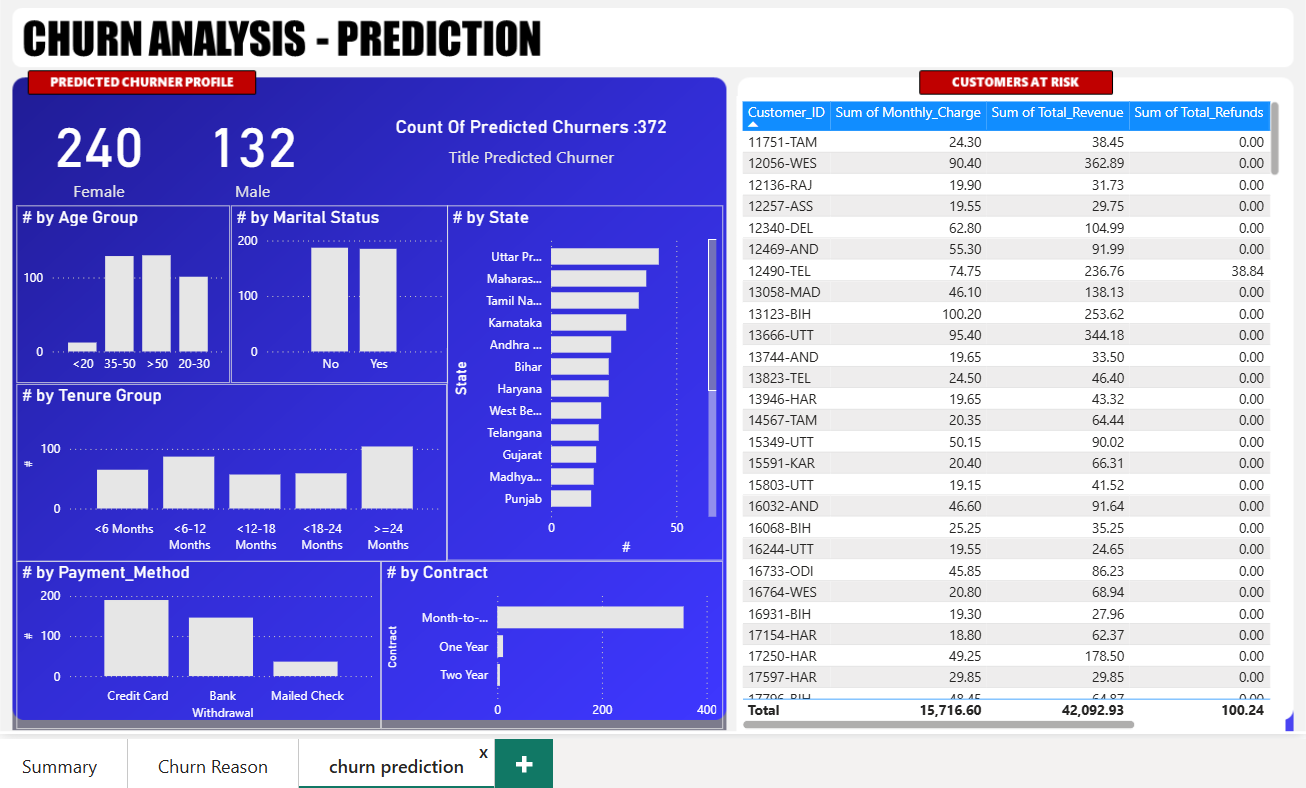

The dashboard page shown, as its layout file describes it:
{"tool":"powerbi","page":{"name":"churn prediction","canvas":[1280,720],"ordinal":2},"visuals":[{"type":"tableEx","fields":{"Values":["Predicted_Churn.Customer_ID","Sum(Predicted_Churn.Monthly_Charge)","Sum(Predicted_Churn.Total_Revenue)","Sum(Predicted_Churn.Total_Refunds)","Sum(Predicted_Churn.Number_of_Referrals)"]},"box":[722.2,94.4,537,625.9],"z":0},{"type":"card","fields":{"Values":["tbl_Measures.Title Predicted Churner"]},"box":[346.3,81.5,350,107.4],"z":1000},{"type":"card","fields":{"Values":["tbl_Measures.Count Pridected Churner"]},"box":[16.7,94.4,161.1,107.4],"z":2000},{"type":"card","fields":{"Values":["tbl_Measures.Count Pridected Churner"]},"box":[177.8,94.4,138.9,107.4],"z":3000},{"type":"clusteredColumnChart","fields":{"Category":["mapping_AgeGrp.Age Group"],"Y":["CountNonNull(Predicted_Churn.Customer_ID)"]},"box":[16.7,201.9,209.3,174.1],"z":4000},{"type":"clusteredColumnChart","fields":{"Category":["Predicted_Churn.Married"],"Y":["CountNonNull(Predicted_Churn.Customer_ID)"]},"box":[225.9,201.9,213,174.1],"z":5000},{"type":"clusteredColumnChart","fields":{"Category":["mapping_TenureGrp.Tenure Group"],"Y":["CountNonNull(Predicted_Churn.Customer_ID)"]},"box":[16.7,375.9,422.2,174.1],"z":6000},{"type":"clusteredBarChart","fields":{"Y":["CountNonNull(Predicted_Churn.Customer_ID)"],"Category":["Predicted_Churn.Contract","Predicted_Churn.Payment_Method"]},"box":[374.1,550,335.2,164.8],"z":7000},{"type":"clusteredBarChart","fields":{"Y":["CountNonNull(Predicted_Churn.Customer_ID)"],"Category":["Predicted_Churn.State","Predicted_Churn.Contract","Predicted_Churn.Payment_Method"]},"box":[438.9,201.9,270.4,348.1],"z":8000},{"type":"clusteredColumnChart","fields":{"Category":["Predicted_Churn.Payment_Method"],"Y":["CountNonNull(Predicted_Churn.Customer_ID)"]},"box":[16.7,550,357.4,164.8],"z":9000}]}

Visuals, with their boxes on the page's 1280x720 design canvas (x1, y1, x2, y2). These are canvas units, not pixel positions in the 1306x788 screenshot, which may show the page scaled, cropped or inside an application window:
tableEx - Predicted_Churn.Customer_ID x Sum(Predicted_Churn.Monthly_Charge): <bbox>722, 94, 1259, 720</bbox>
card - tbl_Measures.Title Predicted Churner: <bbox>346, 82, 696, 189</bbox>
card - tbl_Measures.Count Pridected Churner: <bbox>17, 94, 178, 202</bbox>
card - tbl_Measures.Count Pridected Churner: <bbox>178, 94, 317, 202</bbox>
clusteredColumnChart - mapping_AgeGrp.Age Group x CountNonNull(Predicted_Churn.Customer_ID): <bbox>17, 202, 226, 376</bbox>
clusteredColumnChart - Predicted_Churn.Married x CountNonNull(Predicted_Churn.Customer_ID): <bbox>226, 202, 439, 376</bbox>
clusteredColumnChart - mapping_TenureGrp.Tenure Group x CountNonNull(Predicted_Churn.Customer_ID): <bbox>17, 376, 439, 550</bbox>
clusteredBarChart - CountNonNull(Predicted_Churn.Customer_ID) x Predicted_Churn.Contract: <bbox>374, 550, 709, 715</bbox>
clusteredBarChart - CountNonNull(Predicted_Churn.Customer_ID) x Predicted_Churn.State: <bbox>439, 202, 709, 550</bbox>
clusteredColumnChart - Predicted_Churn.Payment_Method x CountNonNull(Predicted_Churn.Customer_ID): <bbox>17, 550, 374, 715</bbox>
